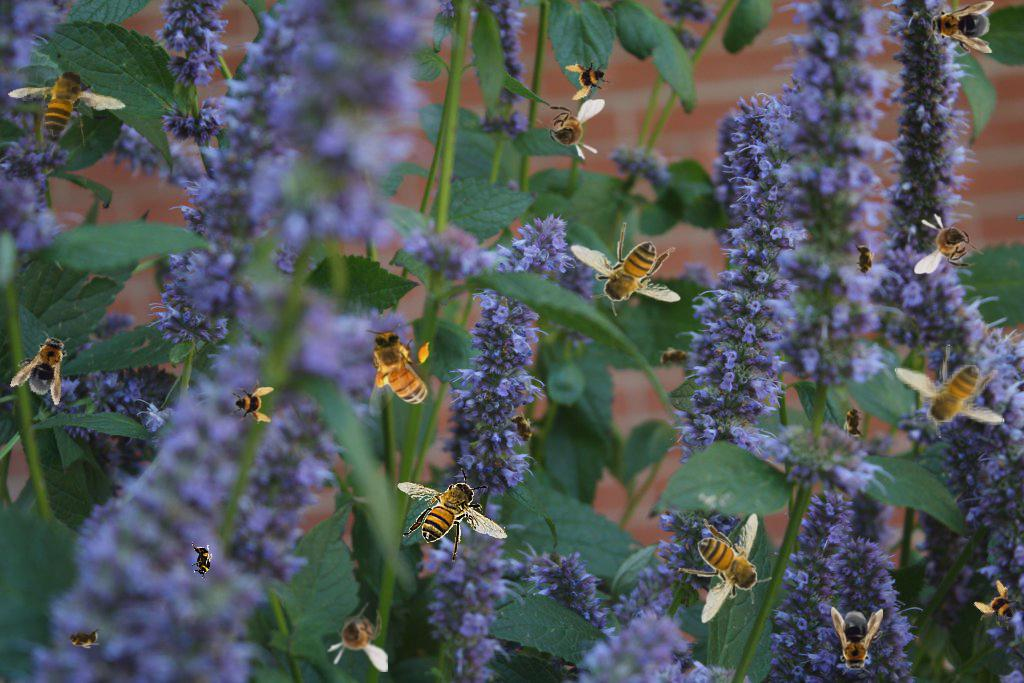Bee: (0, 40, 137, 168), (397, 468, 508, 562), (570, 222, 681, 316), (678, 513, 772, 624), (894, 344, 1005, 438), (365, 324, 433, 417), (8, 324, 82, 406), (327, 602, 388, 672), (914, 213, 984, 274), (535, 99, 605, 160), (967, 575, 1024, 639), (831, 607, 883, 675), (926, 1, 994, 53), (561, 52, 617, 108), (230, 380, 274, 424), (504, 406, 540, 452), (843, 402, 865, 442), (853, 240, 875, 280), (191, 541, 213, 581), (63, 627, 103, 649), (655, 347, 695, 369)
